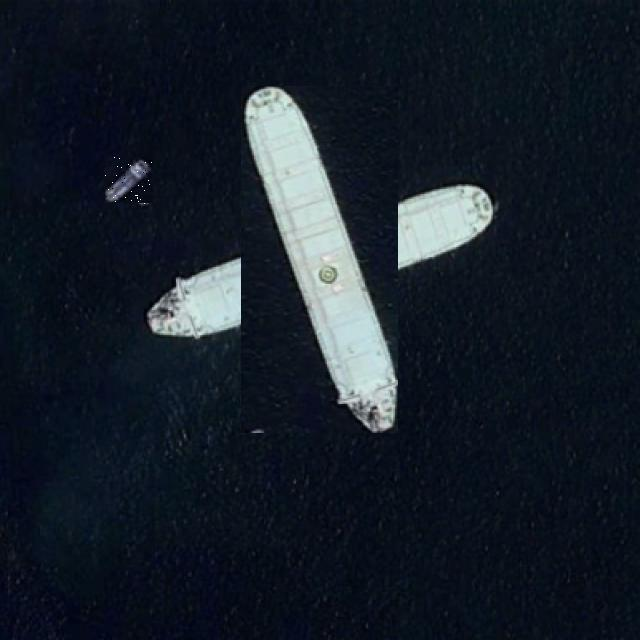boat: (194, 133, 446, 386), (105, 157, 153, 204)
